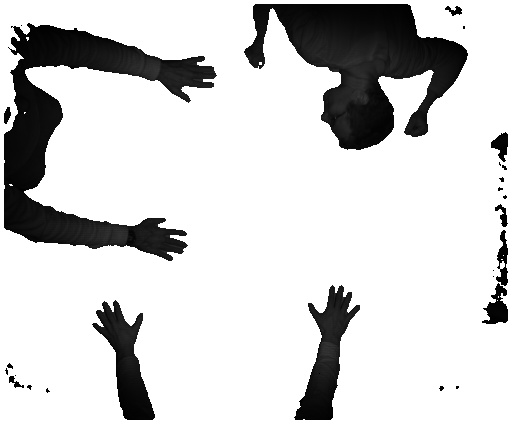fist: (404, 114, 431, 143), (240, 47, 271, 71)
hand: (88, 296, 143, 354), (306, 280, 359, 337), (163, 56, 223, 103), (134, 216, 191, 263)
